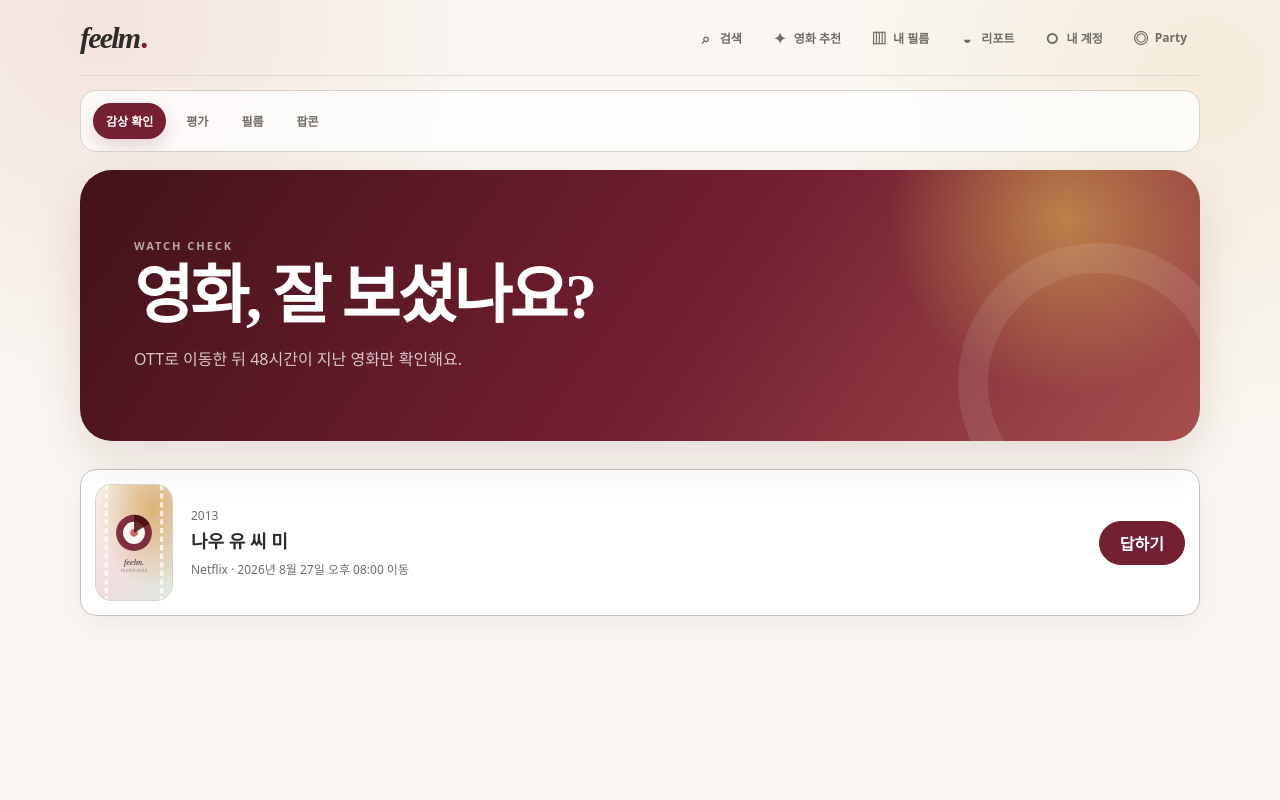
it: C1 Rating·Film frontend › pending 확인 목록에서 소유 영화와 OTT·클릭 시각을 표시하고 확인 화면으로 이동한다 (AC-C1-007, AC-C1-042)
Expected: the heading "나우 유 씨 미" is shown, [191,529,288,553]
Expected: the text "Netflix" is shown, [191,561,409,578]
Click the link "답하기" at (1142, 543), box [1099,521,1185,565]
(page scrolled)
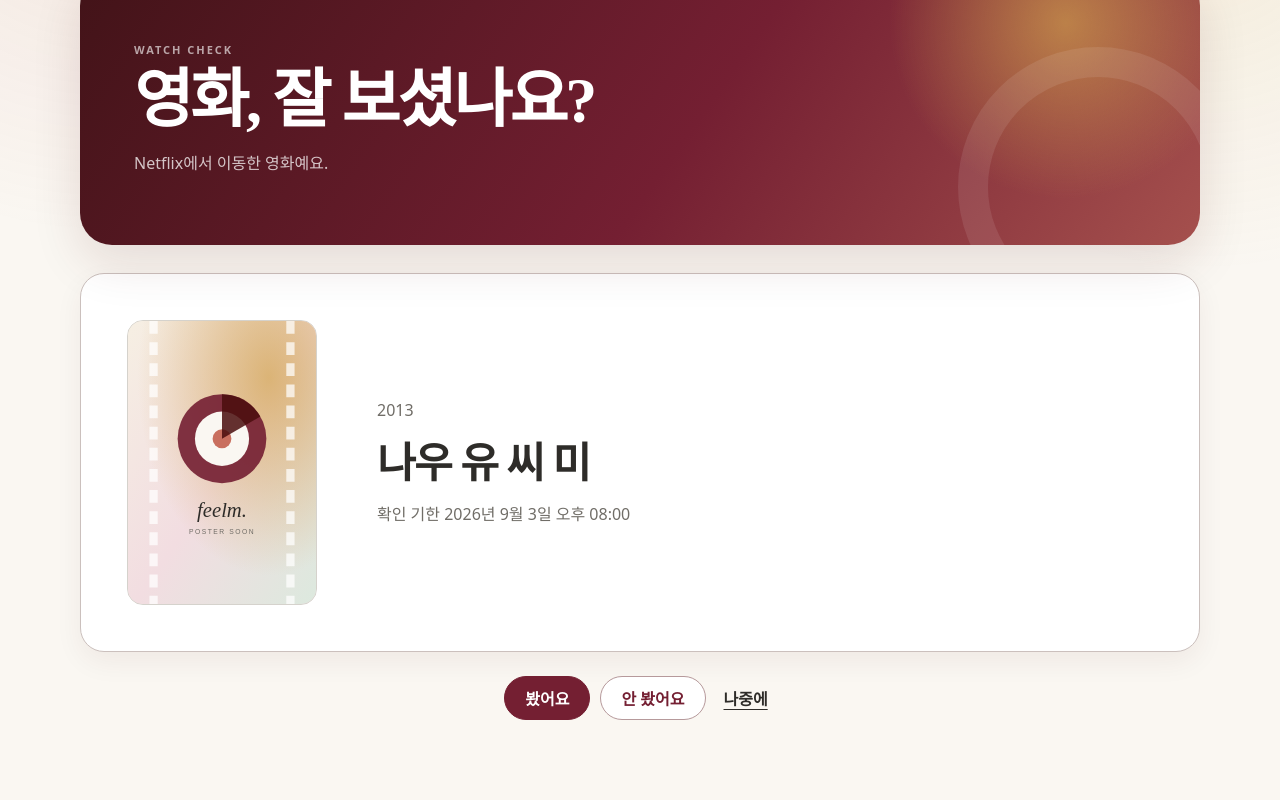
Expected: the heading "영화, 잘 보셨나요?" is shown, [134,65,594,136]
Now the button "봤어요" is enabled, box [504,676,590,720]
